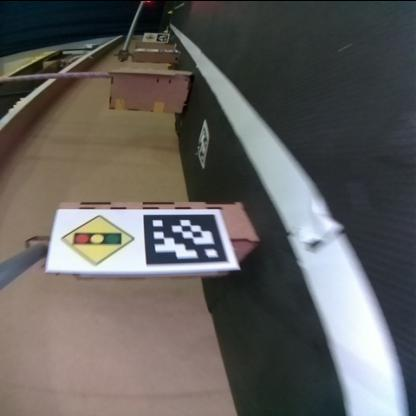Intersection sign: (144, 32, 154, 38)
QR code: (141, 211, 229, 265), (196, 119, 208, 164), (158, 33, 168, 39)
Signal sign: (60, 213, 136, 265)
